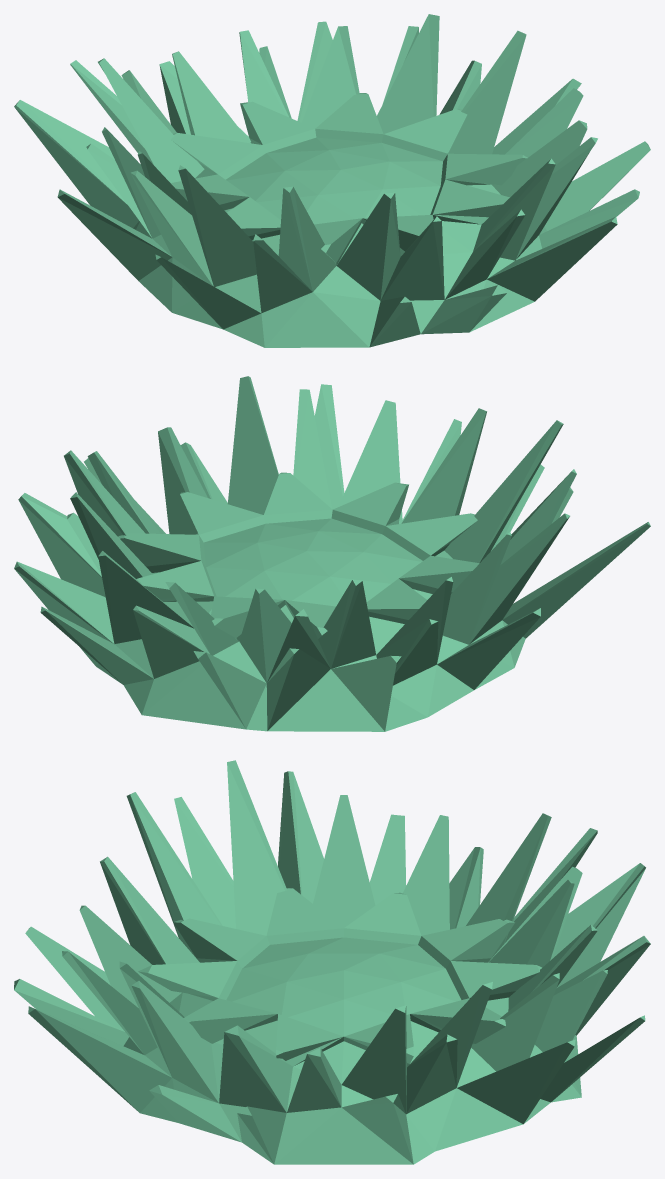
Rendered from meditationplatform.dae.
3 renders of one model, top to bottom at view 1: azimuth 30°, elevation 25°; view 2: azimuth 150°, elevation 25°; view 3: azimuth 270°, elevation 25°, orthographic. The views are drawn at different scales.
Parts seen in each view (by area): view 1: Icosphere; view 2: Icosphere; view 3: Icosphere.
Part boxes in pixels (x1,y1,x2,y2): Icosphere: (14,14,650,347); Icosphere: (14,376,650,731); Icosphere: (14,760,650,1164).
Bounding box in the file's own units: 15.54 × 15.24 × 5.28.
